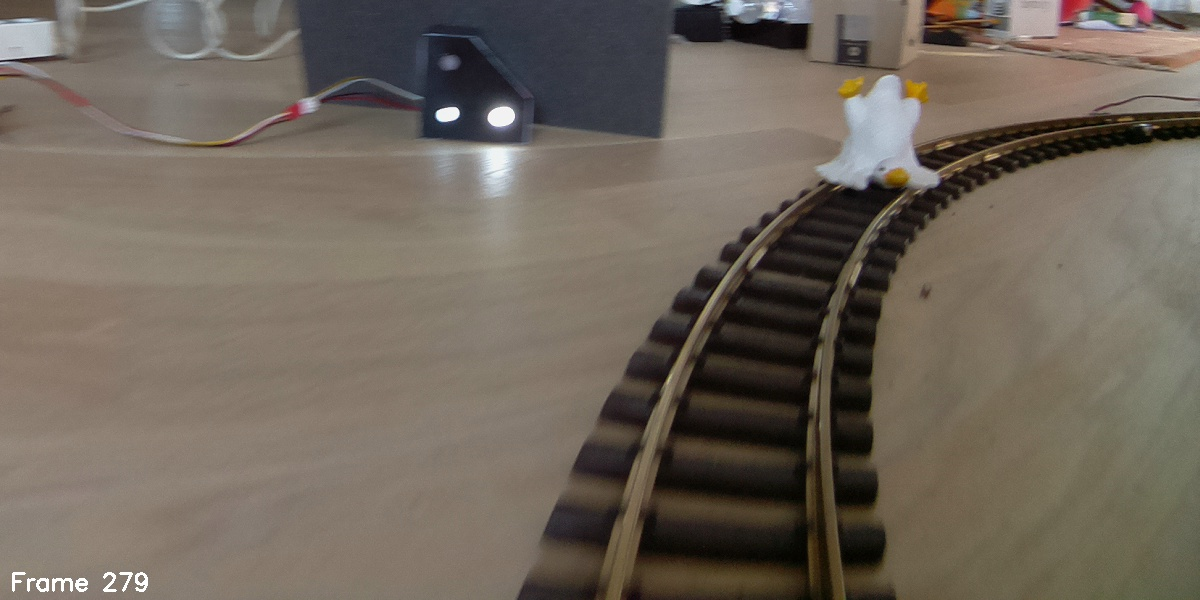Halt: (420, 30, 533, 143)
